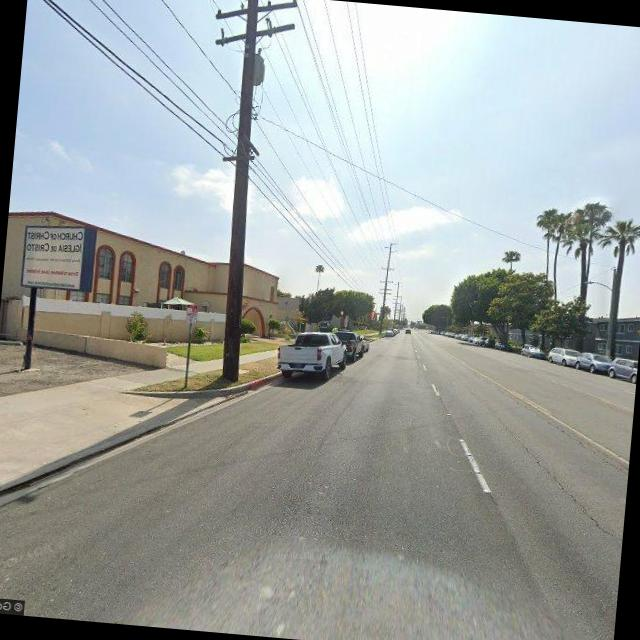pothole: (488, 418, 630, 555)
